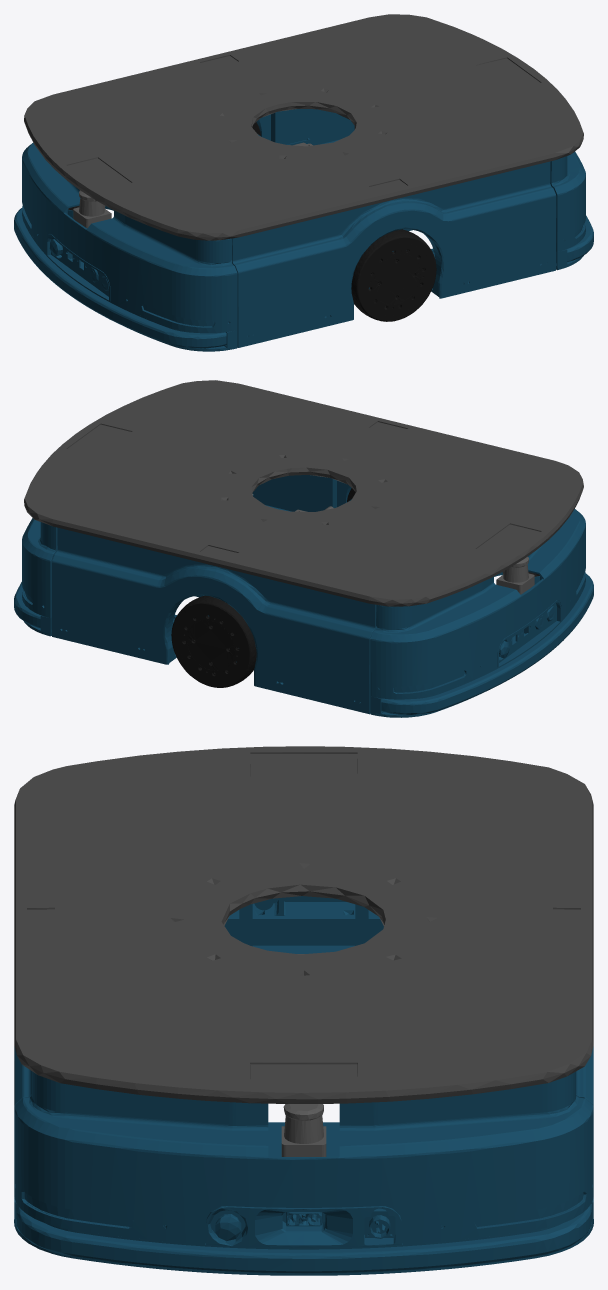
3 renders of one model, top to bottom at view 1: azimuth 30°, elevation 25°; view 2: azimuth 150°, elevation 25°; view 3: azimuth 270°, elevation 25°, orthographic. The views are drawn at different scales.
Visible parts, largest first — view 1: tray, base_link, right_wheel, back_lidar; view 2: tray, base_link, left_wheel, back_lidar; view 3: tray, base_link, front_lidar.
Boxes of the visible parts, x1,y1,x2,y2 form: tray: (24,14,583,240); base_link: (14,109,593,351); right_wheel: (351,229,436,321); back_lidar: (73,190,111,228); tray: (24,380,583,606); base_link: (14,475,593,717); left_wheel: (171,595,256,687); back_lidar: (496,556,534,594); tray: (14,746,593,1103); base_link: (14,896,593,1275); front_lidar: (281,1104,326,1156).
Size of the model in its own units: 0.9538 by 0.2505 by 0.6505.
